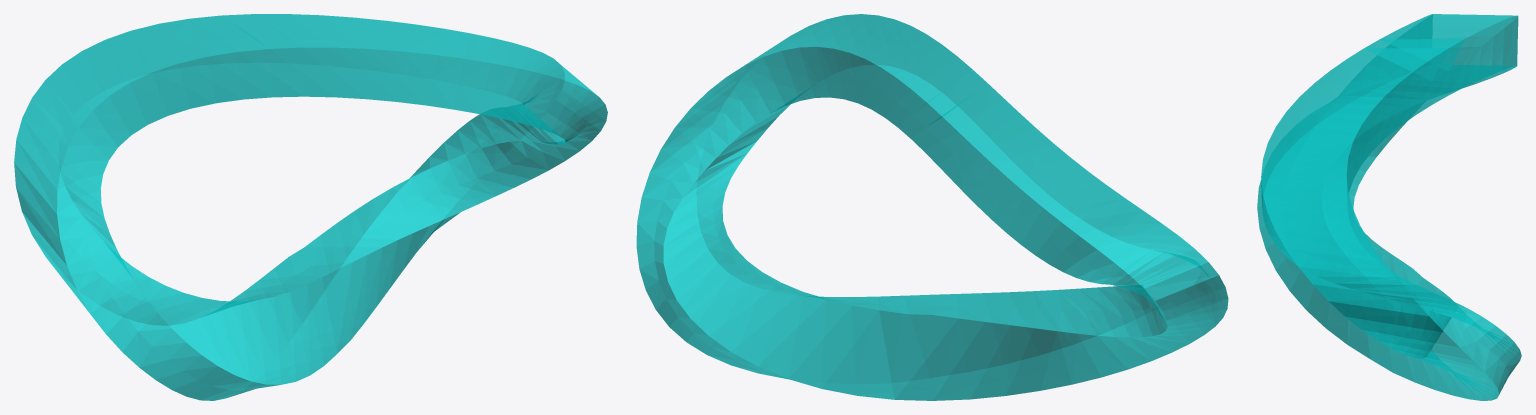
Rendered from moebiusStrip1.obj.
3 views of the same model, side by side, from view 1: azimuth 30°, elevation 25°; view 2: azimuth 150°, elevation 25°; view 3: azimuth 270°, elevation 25° (orthographic). The views are drawn at different scales.
Visible parts, largest first — view 1: skpC673_1; view 2: skpC673_1; view 3: skpC673_1.
Boxes of the visible parts, box(x1,y1,x2,y2) form: skpC673_1: box(14, 14, 607, 400); skpC673_1: box(636, 14, 1228, 400); skpC673_1: box(1257, 14, 1521, 400).
Size of the model in its own units: 22.37 by 12.93 by 10.48.
